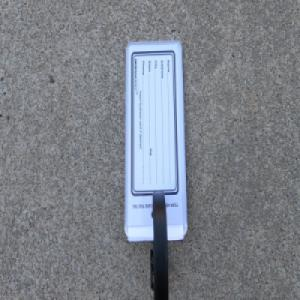LuggageTag: (123, 37, 190, 300)
